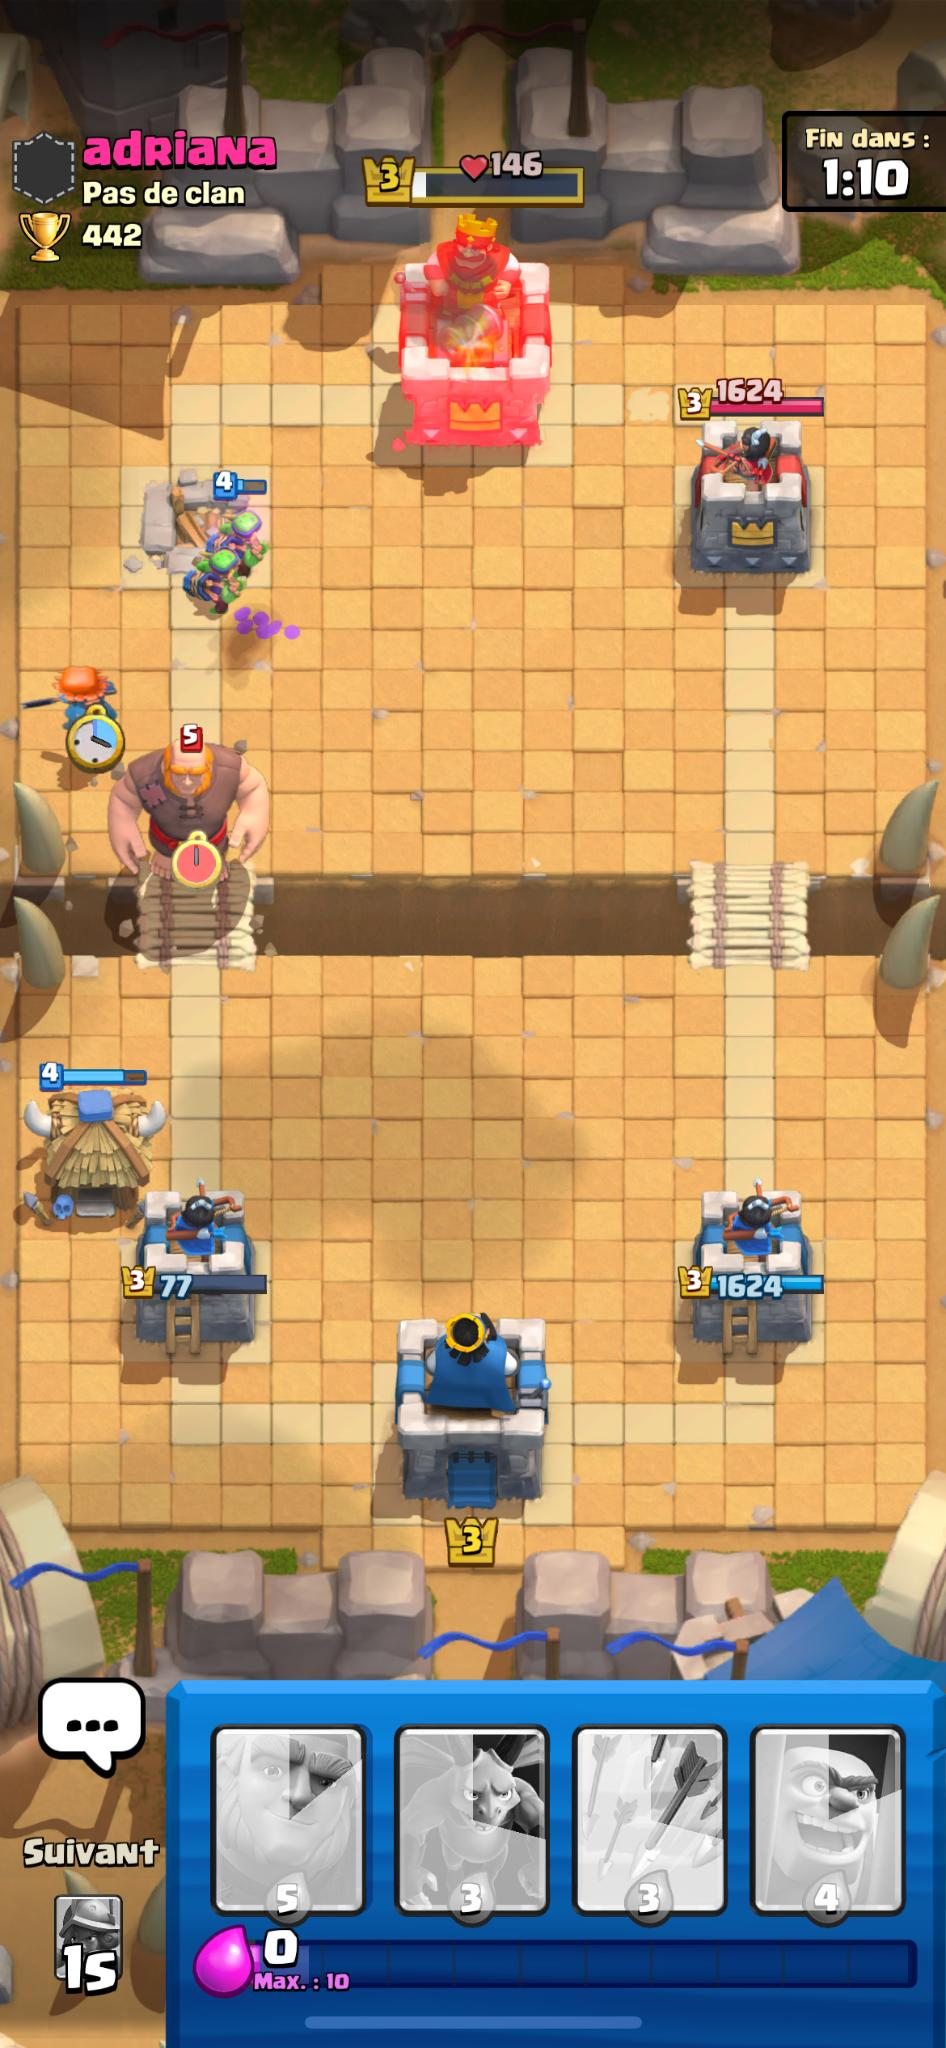geant: (110, 728, 295, 909)
gobelin_lances: (201, 485, 284, 580), (187, 549, 248, 611)
valkyrie: (27, 654, 136, 750)
